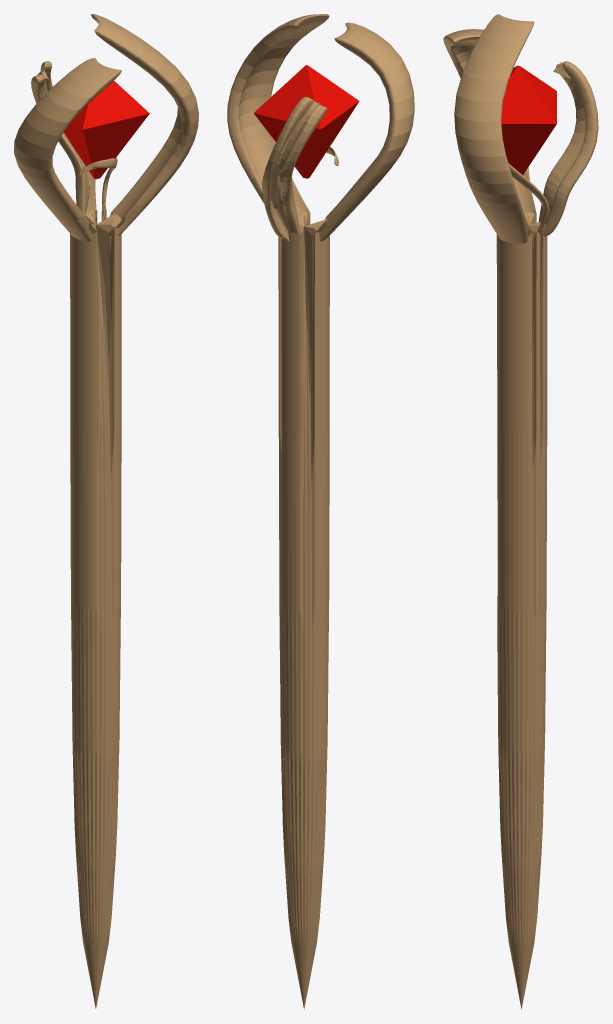
The model's file is Staff_of_blasting.fbx.
The picture shows the model from 3 angles, left to right: view 1: azimuth 30°, elevation 25°; view 2: azimuth 150°, elevation 25°; view 3: azimuth 270°, elevation 25°; orthographic projection.
Parts seen in each view (by area): view 1: Cylinder, Cylinder.001; view 2: Cylinder, Cylinder.001; view 3: Cylinder, Cylinder.001.
Part boxes in pixels (x1=…): Cylinder: x1=14, y1=14, x2=198, y2=1008; Cylinder.001: x1=64, y1=81, x2=149, y2=179; Cylinder: x1=227, y1=14, x2=414, y2=1009; Cylinder.001: x1=254, y1=65, x2=359, y2=178; Cylinder: x1=443, y1=14, x2=598, y2=1009; Cylinder.001: x1=501, y1=65, x2=556, y2=174.
Bounding box in the file's own units: 15.6 × 84.35 × 11.98.
